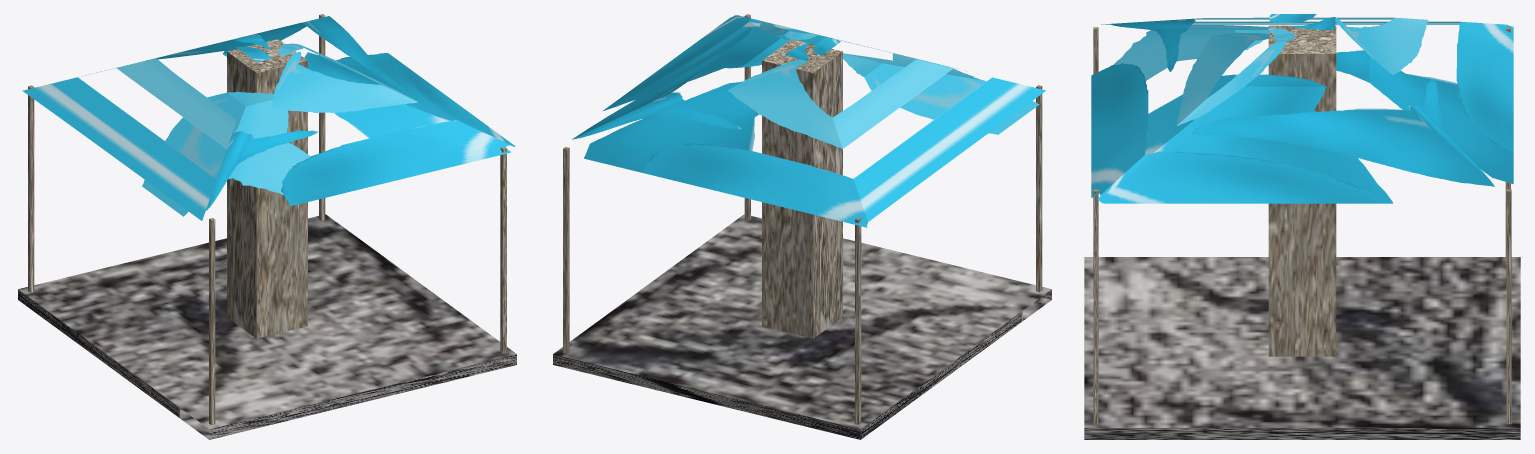
Rendered from cell3.2.obj.
The picture shows the model from 3 angles, left to right: view 1: azimuth 30°, elevation 25°; view 2: azimuth 150°, elevation 25°; view 3: azimuth 270°, elevation 25°; orthographic projection. The views are drawn at different scales.
Visible parts, largest first — view 1: floor_Cube, Cube_Cube.018, Cube.010_Cube.019, Cube.001_Cube.015, Cube.008_Cube.016, Cube.007_Cube.013, Cube.009_Cube.017; view 2: floor_Cube, Cube_Cube.018, Cube.010_Cube.019, Cube.009_Cube.017, Cube.007_Cube.013, Cube.001_Cube.015; view 3: floor_Cube, Cube_Cube.018, Cube.010_Cube.019, Cube.009_Cube.017, Cube.008_Cube.016.
Part boxes in pixels (<box>): floor_Cube: <box>18,214,516,439</box>; Cube_Cube.018: <box>22,16,515,220</box>; Cube.010_Cube.019: <box>227,39,307,338</box>; Cube.001_Cube.015: <box>209,218,215,424</box>; Cube.008_Cube.016: <box>500,147,506,353</box>; Cube.007_Cube.013: <box>28,85,34,292</box>; Cube.009_Cube.017: <box>319,14,325,220</box>; floor_Cube: <box>553,214,1051,439</box>; Cube_Cube.018: <box>572,15,1046,227</box>; Cube.010_Cube.019: <box>762,40,842,338</box>; Cube.009_Cube.017: <box>563,147,569,353</box>; Cube.007_Cube.013: <box>855,217,861,424</box>; Cube.001_Cube.015: <box>1036,85,1042,292</box>; floor_Cube: <box>1084,257,1520,439</box>; Cube_Cube.018: <box>1091,14,1513,203</box>; Cube.010_Cube.019: <box>1268,25,1336,356</box>; Cube.009_Cube.017: <box>1506,189,1511,424</box>; Cube.008_Cube.016: <box>1093,189,1098,424</box>.
Bounding box in the file's own units: 12.52 × 10.68 × 12.93.
